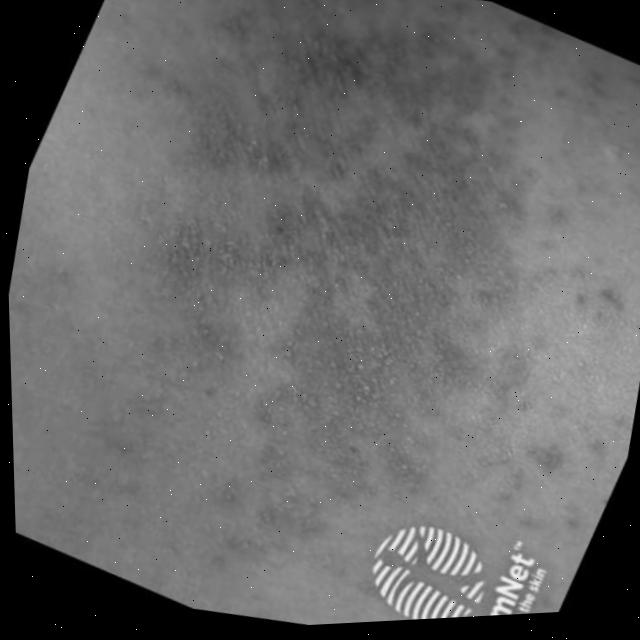Eczema: (148, 6, 635, 584)
